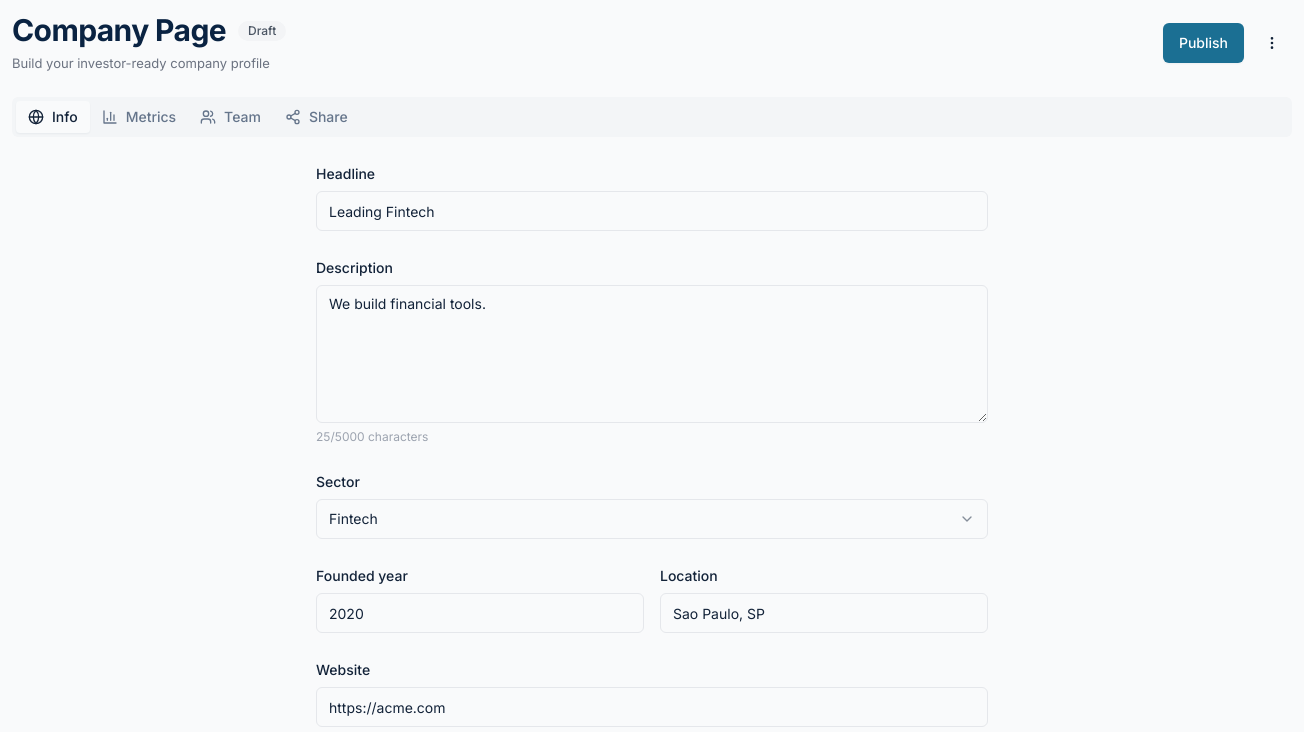
CompanyPagePage › shows existing metrics when switching to Metrics tab
Click the tab "Metrics": x=139, y=117 [90,101,188,133]
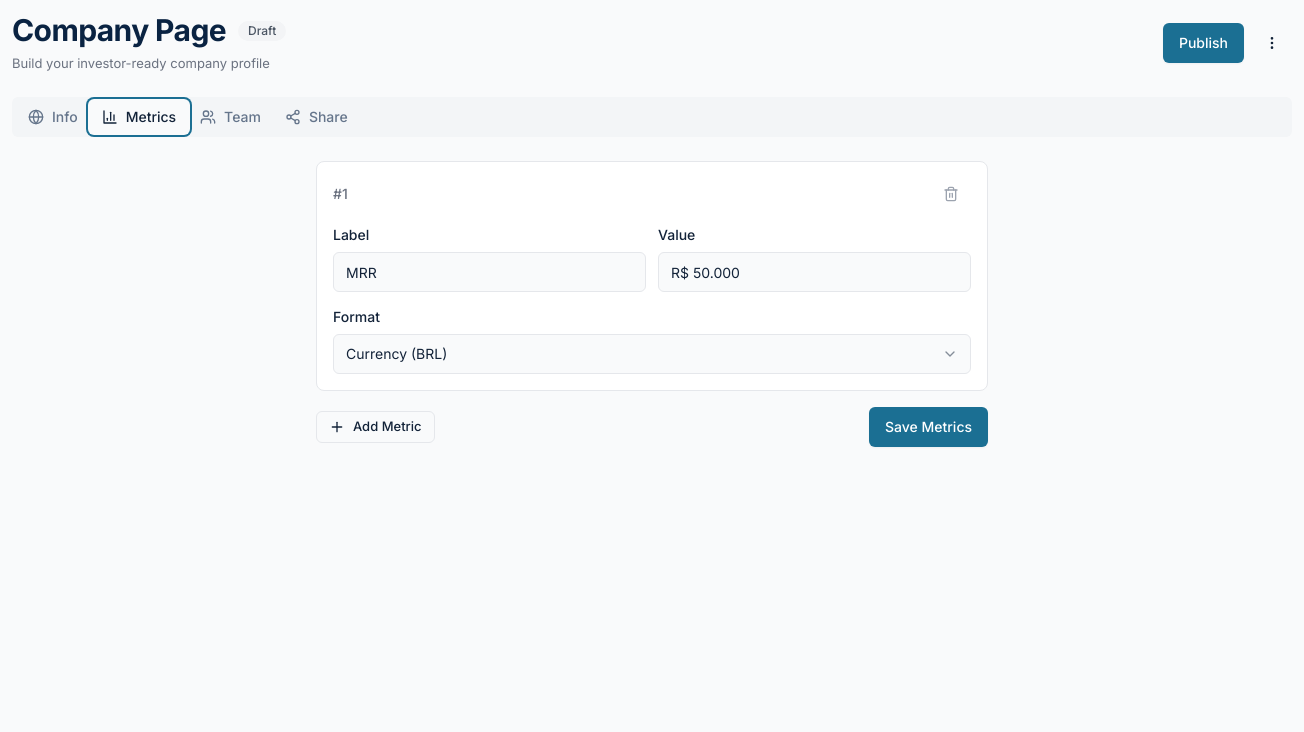
expect the field showing "MRR" below "Label" is shown: met, box [333,252,646,292]
expect the field showing "R$ 50.000" below "Value" is shown: met, box [658,252,971,292]
